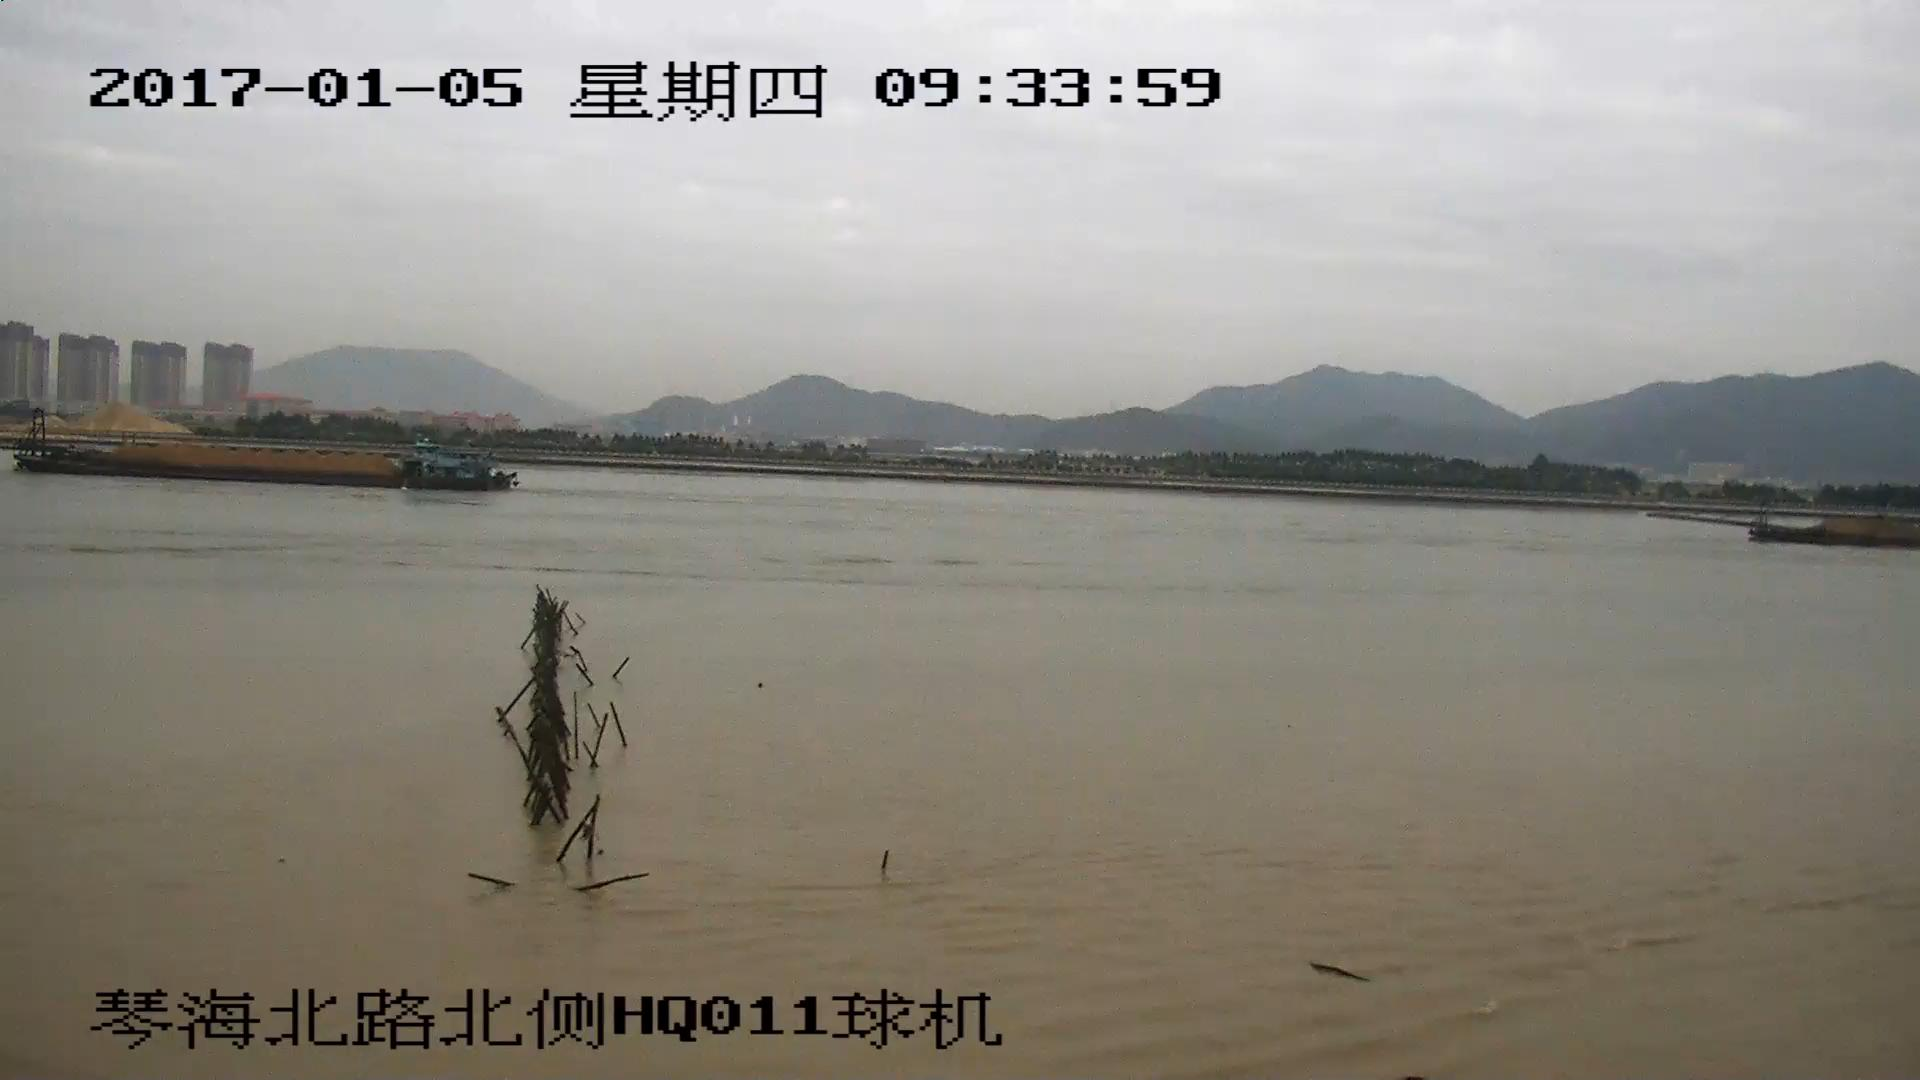ore carrier: (1, 421, 516, 486), (1656, 502, 1920, 548)
